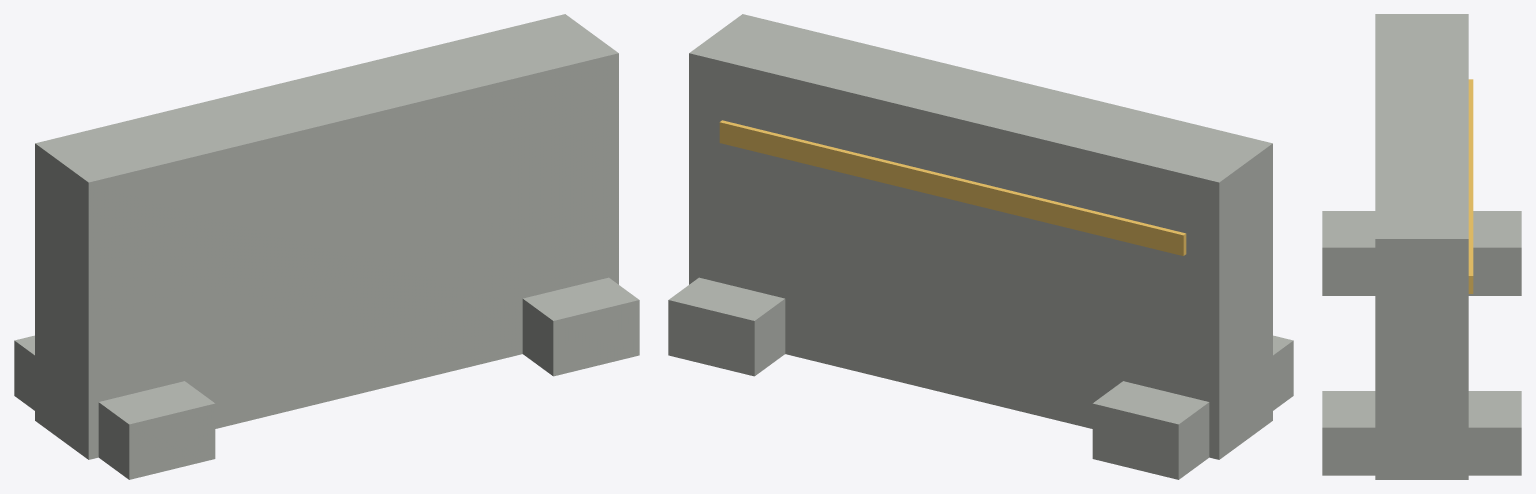
File: MIL_Barrier.fbx
The picture shows the model from 3 angles, left to right: view 1: azimuth 30°, elevation 25°; view 2: azimuth 150°, elevation 25°; view 3: azimuth 270°, elevation 25°; orthographic projection. The views are drawn at different scales.
Visible parts, largest first — view 1: MIL_Barrier_ENV_Concrete; view 2: MIL_Barrier_ENV_Concrete, WarningStripe; view 3: MIL_Barrier_ENV_Concrete, WarningStripe.
Boxes of the visible parts, box(x1,y1,x2,y2) form: MIL_Barrier_ENV_Concrete: box(14, 14, 639, 479); MIL_Barrier_ENV_Concrete: box(668, 14, 1293, 479); WarningStripe: box(719, 120, 1186, 255); MIL_Barrier_ENV_Concrete: box(1322, 14, 1521, 479); WarningStripe: box(1468, 79, 1473, 293).
Bounding box in the file's own units: 400 × 200 × 150.
